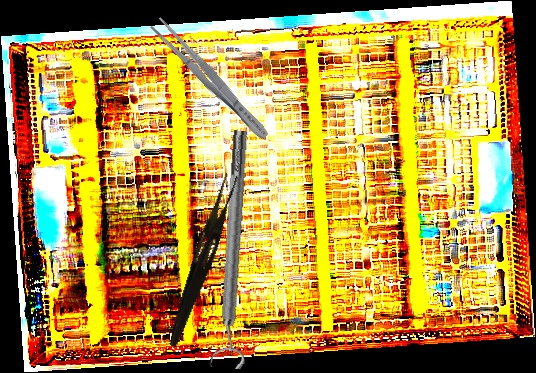Dressing Forceps: (147, 15, 274, 144), (165, 170, 240, 351)
Fixation Ring: (206, 129, 262, 370)
